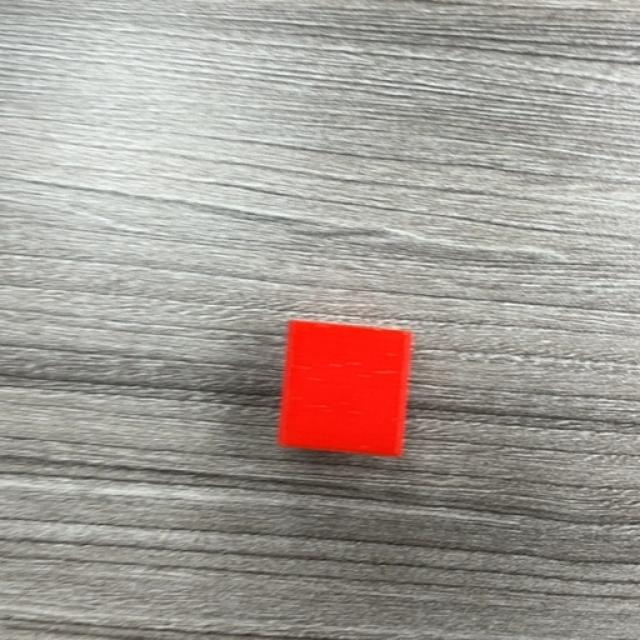Rojo: (276, 321, 415, 460)
